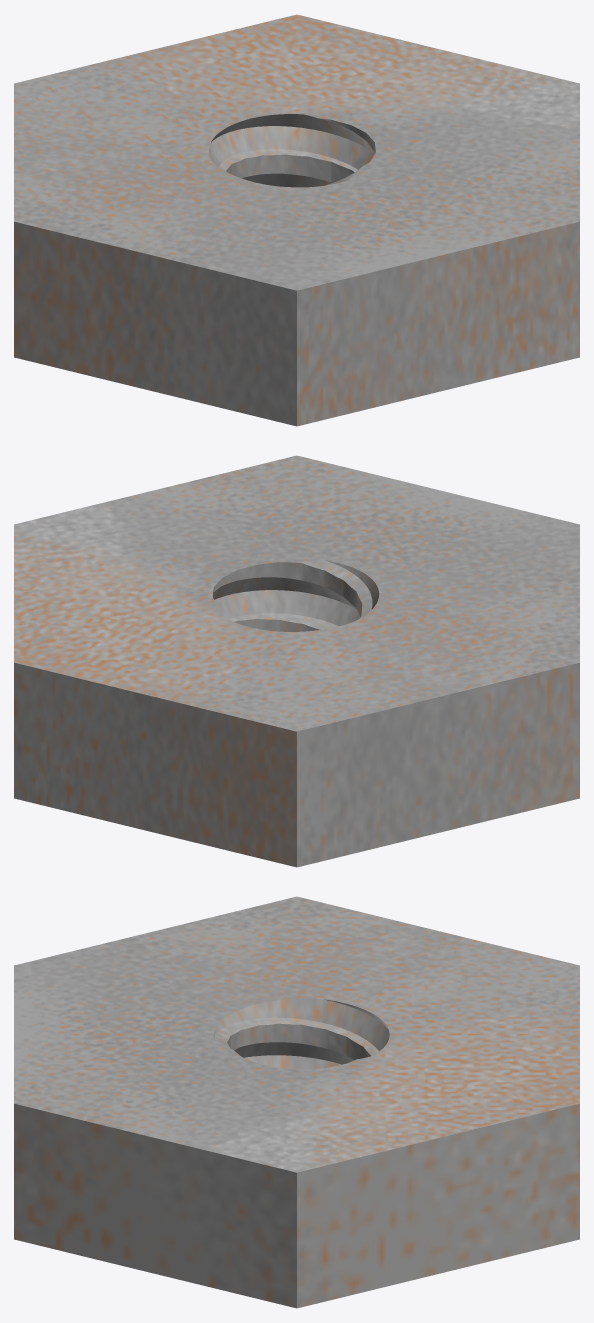
The model's file is porca-0.fbx.
The picture shows the model from 3 angles, top to bottom: view 1: azimuth 30°, elevation 25°; view 2: azimuth 150°, elevation 25°; view 3: azimuth 270°, elevation 25°; orthographic projection.
Visible parts, largest first — view 1: pCylinder4; view 2: pCylinder4; view 3: pCylinder4.
Part boxes in pixels (box(x1,y1,x2,y2)): pCylinder4: box(14, 14, 579, 426); pCylinder4: box(14, 455, 579, 867); pCylinder4: box(14, 896, 579, 1308).
Size of the model in its own units: 1.23 by 0.2813 by 1.06.
